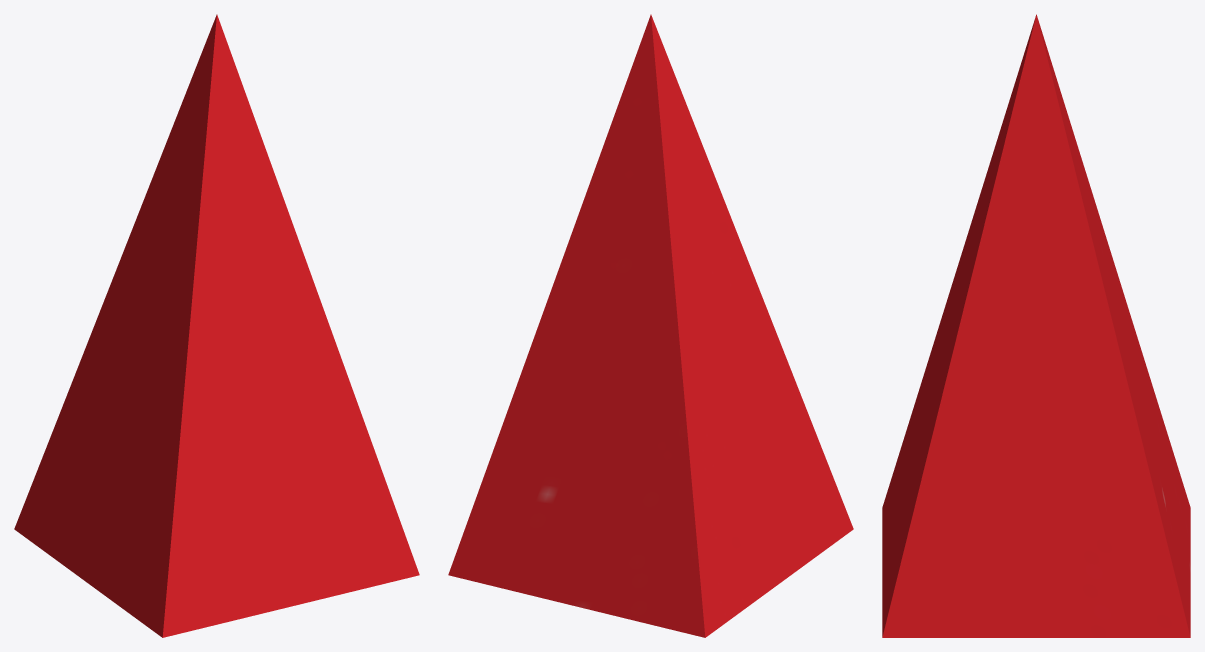
The model's file is playerBullet.FBX.
3 renders of one model, left to right at view 1: azimuth 30°, elevation 25°; view 2: azimuth 150°, elevation 25°; view 3: azimuth 270°, elevation 25°, orthographic. The views are drawn at different scales.
Parts seen in each view (by area): view 1: Pyramid002; view 2: Pyramid002; view 3: Pyramid002.
Boxes of the visible parts, bbox=[...] form: Pyramid002: bbox=[14, 14, 419, 637]; Pyramid002: bbox=[448, 14, 853, 637]; Pyramid002: bbox=[882, 14, 1190, 637].
Bounding box in the file's own units: 0.3 × 0.6 × 0.3.
1 material, 1 textured.
